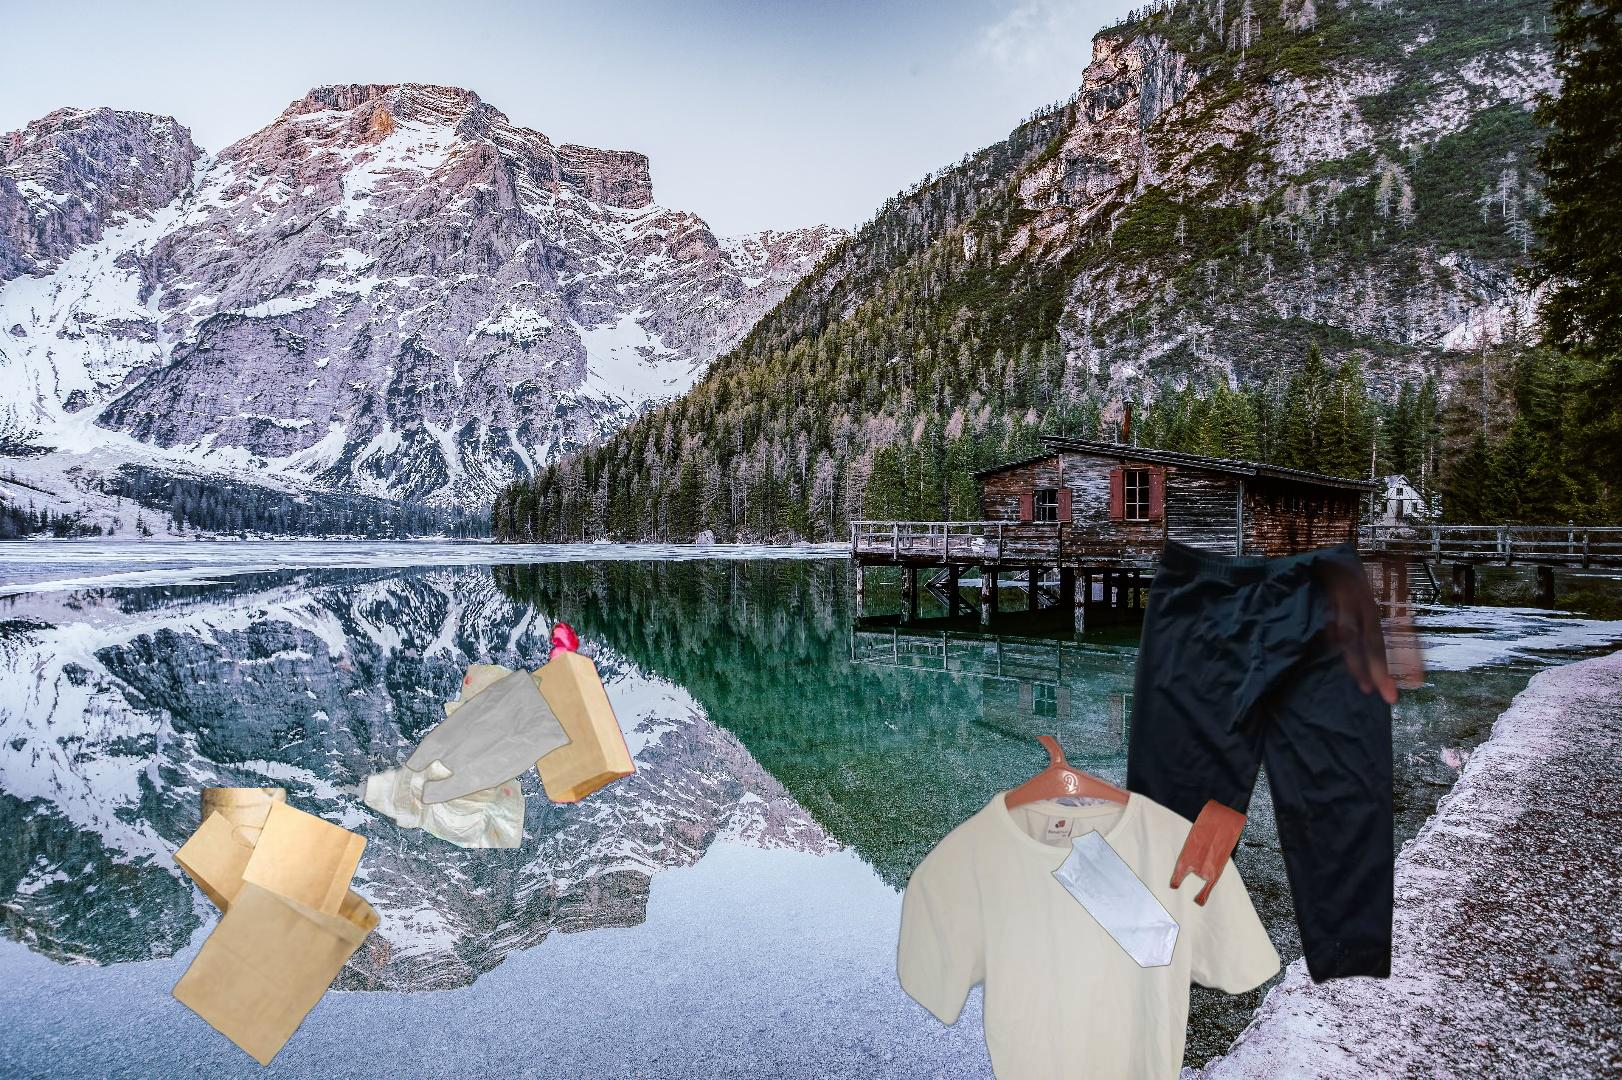clothes: (891, 736, 1280, 1080), (1122, 535, 1398, 1001)
paper-bag: (168, 788, 383, 1070), (509, 619, 672, 852)
plastic-bag: (1002, 734, 1251, 971), (402, 666, 577, 806)
trash: (336, 665, 545, 848)
trashbox-cardboard: (1012, 398, 1622, 725)
